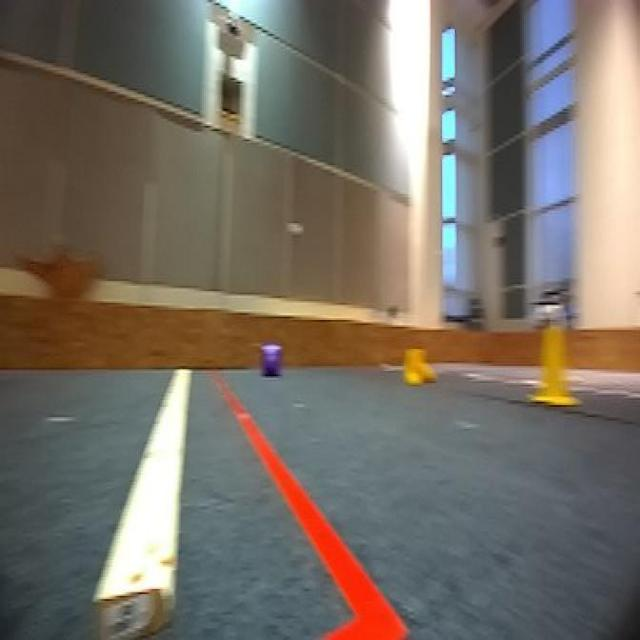frc_cone: (526, 318, 580, 407), (399, 344, 442, 388)
frc_cube: (260, 340, 284, 378)
